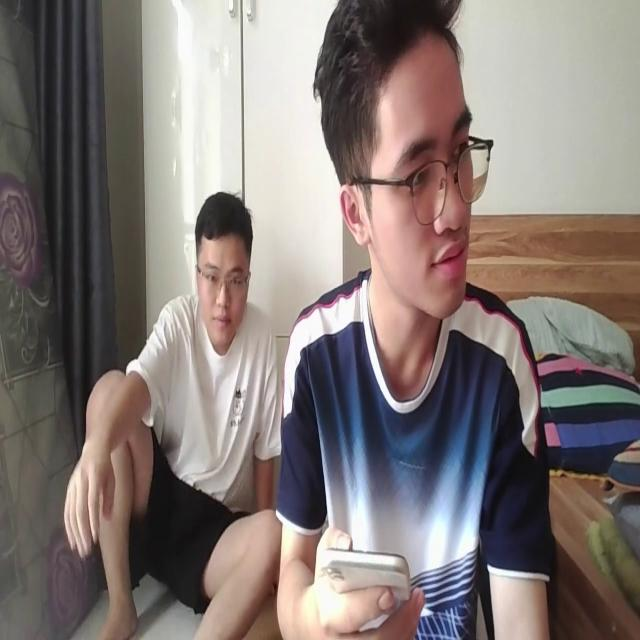extra_person: (62, 188, 281, 640)
student: (276, 0, 553, 640)
